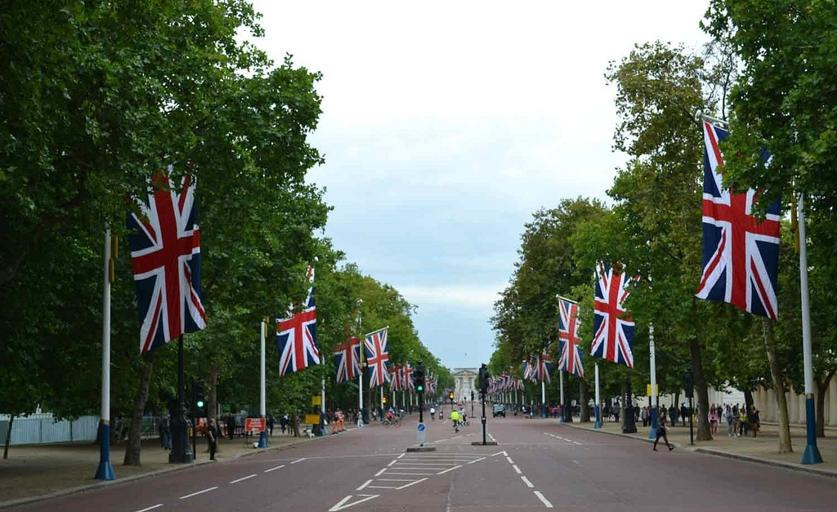non-vehicle: (382, 416, 401, 427), (429, 413, 434, 422)
